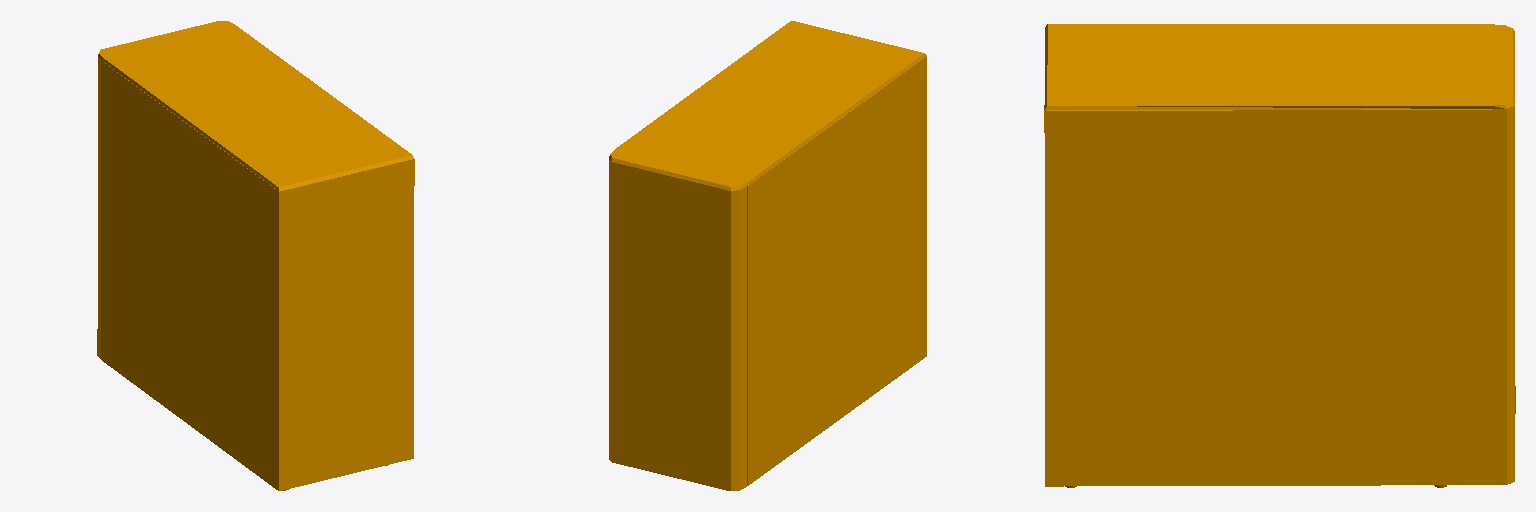
robot.urdf — desktop:
<robot name="desktop">
  <link name="desktop_base_link">
    <contact>
      <lateral_friction value="0.5"/>
      <rolling_friction value="0.0"/>
      <contact_cfm value="0.0"/>
      <contact_erp value="1.0"/>
    </contact>
    <inertial>
      <origin rpy="0 0 0" xyz="0 0 0"/>
      <mass value="0"/>
      <inertia ixx="0" ixy="0" ixz="0" iyy="0" iyz="0" izz="0"/>
    </inertial>
    <visual>
      <origin rpy="1.57 0 3.14" xyz="0 0 0"/>
      <geometry>
        <mesh filename="cpu.obj" scale="0.04 0.04 0.04"/>
      </geometry>
    </visual>
    <collision>
      <origin rpy="1.57 0 3.14" xyz="0 0 0"/>
      <geometry>
        <mesh filename="cpu.obj" scale="0.04 0.04 0.04"/>
      </geometry>
    </collision>
  </link>
</robot>

--- Facts derived from the render (not from the file) ---
3 views of the same robot in one strip: view 1: azimuth 30°, elevation 25°; view 2: azimuth 150°, elevation 25°; view 3: azimuth 270°, elevation 25° (orthographic).
Model desktop with 1 links and 0 joints (none), rooted at desktop_base_link, posed all joints at 0.
Visible links, largest first — view 1: desktop_base_link; view 2: desktop_base_link; view 3: desktop_base_link.
Link boxes in pixels (x1,y1,x2,y2): desktop_base_link: (97,21,414,490); desktop_base_link: (609,21,926,490); desktop_base_link: (1044,24,1515,487).
Bounding box of the posed robot: 8.03 × 19.23 × 17.61 m (x, y, z).
1 mesh visuals loaded from 1 distinct referenced files (1 OBJ).